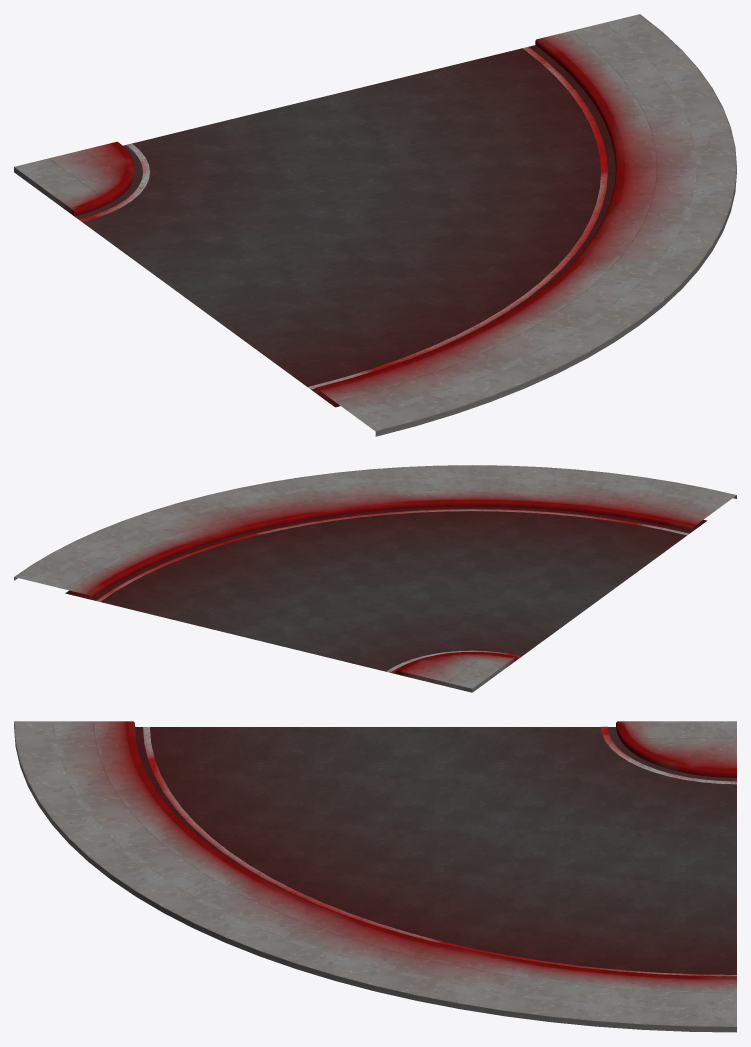
The model's file is Street_Curve_4LaneShort.gltf.
3 views of the same model, one above another, from view 1: azimuth 30°, elevation 25°; view 2: azimuth 150°, elevation 25°; view 3: azimuth 270°, elevation 25° (orthographic). The views are drawn at different scales.
Parts seen in each view (by area): view 1: Street_Curve_4LaneShort; view 2: Street_Curve_4LaneShort; view 3: Street_Curve_4LaneShort.
Boxes of the visible parts, <box> form: Street_Curve_4LaneShort: <box>14,14,736,436</box>; Street_Curve_4LaneShort: <box>14,465,736,692</box>; Street_Curve_4LaneShort: <box>14,721,736,1032</box>.
Bounding box in the file's own units: 18 × 0.15 × 18.
3 materials, 3 textured.
